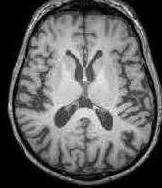Normal_Brain: (4, 1, 162, 188)
